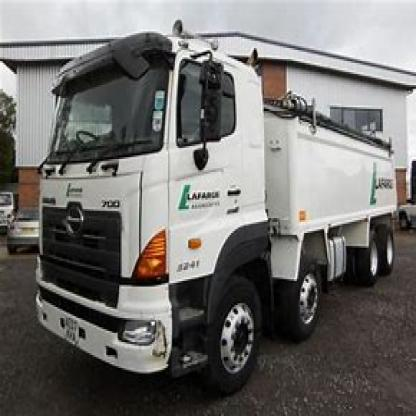dump_truck: (39, 35, 403, 392)
